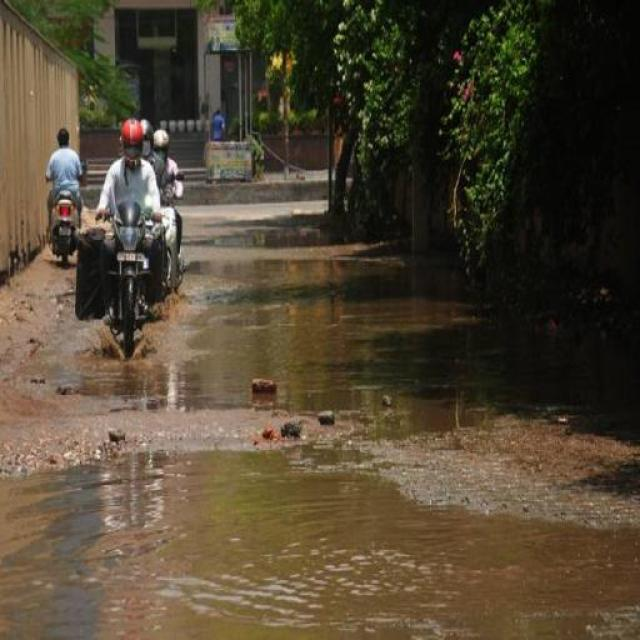puddle: (7, 518, 622, 640), (210, 266, 470, 410), (11, 466, 401, 546)
